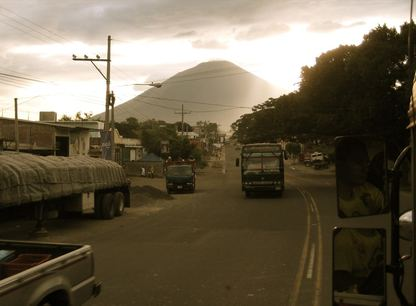bus: (236, 144, 289, 198)
